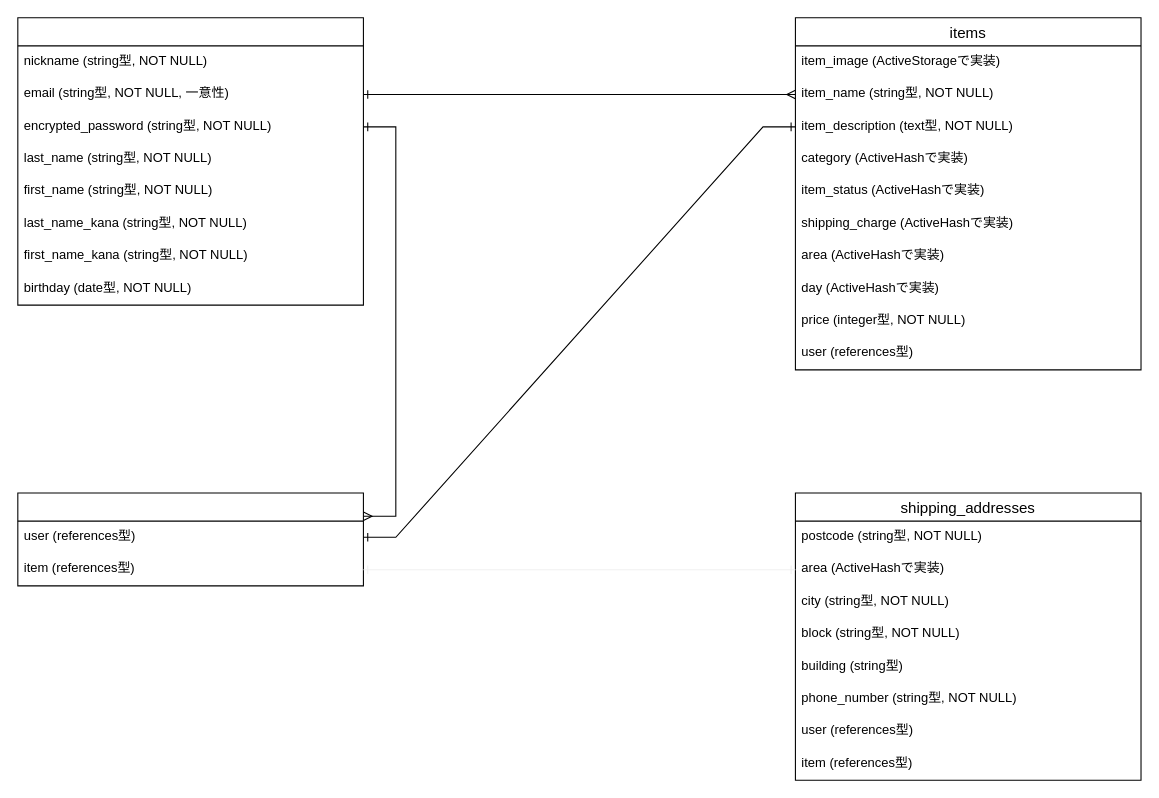
The diagram is 1159 pixels wide and 798 high, and some of its shapes have lost their labels. Here are the shapes that lost their labels. From the top down, the box of each, then its label:
(17, 17, 363, 305): users
(17, 492, 363, 586): purchases
